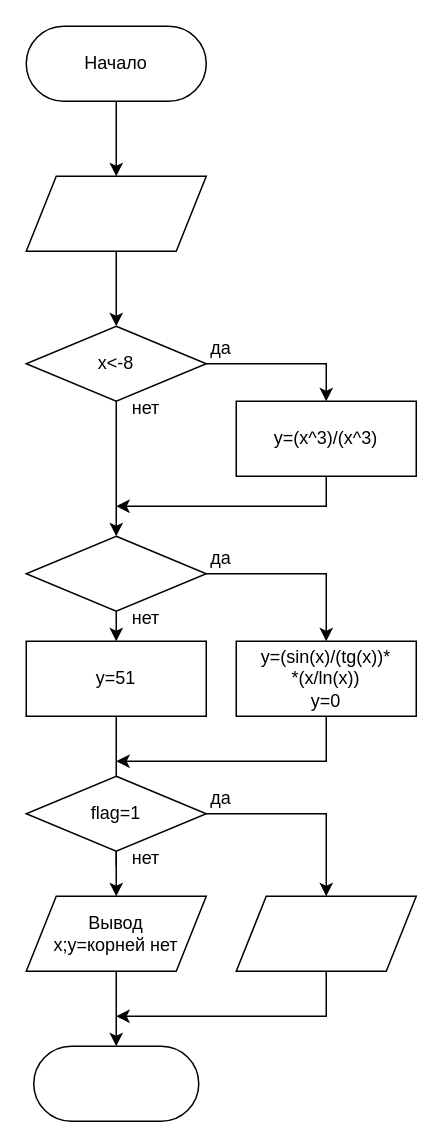
Some shapes in this 443 by 1148 pixel diagram are drawn without their labels. The box of each missing label's shape, as (x1, y1, x2, y2) in pixels:
x>=-8 и x<-3: (25, 535, 206, 611)
Ввод x: (25, 175, 206, 251)
Вывод x;y: (235, 895, 416, 971)
Конец: (32, 1045, 199, 1121)
